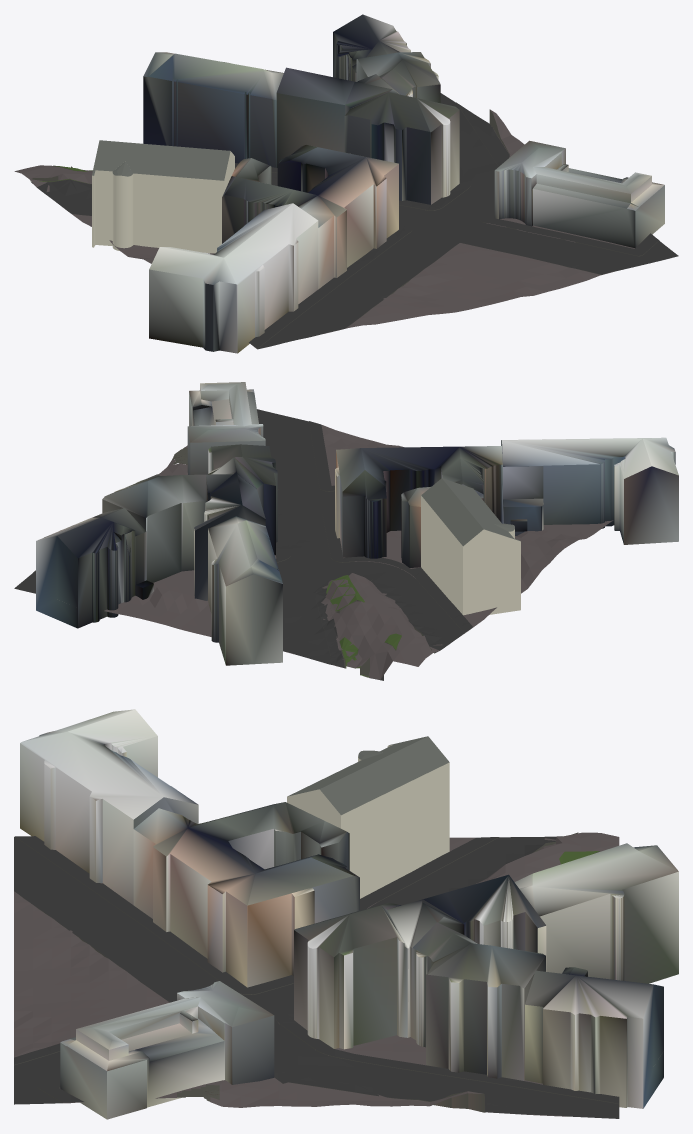
3 renders of one model, top to bottom at view 1: azimuth 30°, elevation 25°; view 2: azimuth 150°, elevation 25°; view 3: azimuth 270°, elevation 25°, orthographic. The views are drawn at different scales.
Parts seen in each view (by area): view 1: c_m10_m03; view 2: c_m10_m03; view 3: c_m10_m03.
Part boxes in pixels (bbox=[...]): c_m10_m03: bbox=[14, 14, 678, 353]; c_m10_m03: bbox=[14, 382, 678, 680]; c_m10_m03: bbox=[14, 709, 678, 1119].
Size of the model in its own units: 156 by 33.15 by 141.
